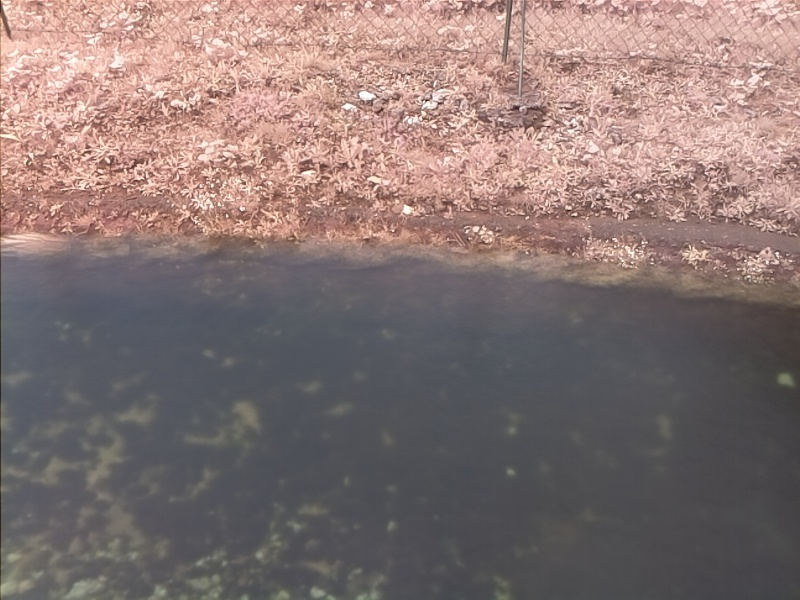Water: (1, 232, 796, 600)
